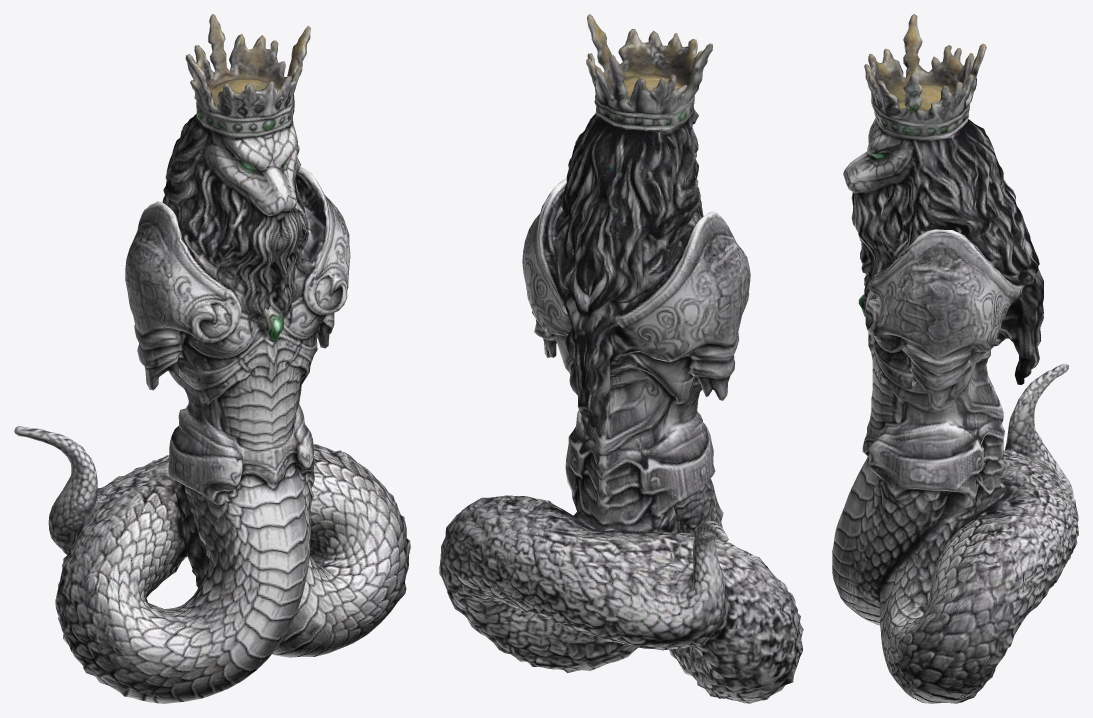
The model's file is Spree_SnakeKing.glb.
3 views of the same model, side by side, from view 1: azimuth 30°, elevation 25°; view 2: azimuth 150°, elevation 25°; view 3: azimuth 270°, elevation 25° (orthographic). The views are drawn at different scales.
Size of the model in its own units: 1.06 by 1.91 by 0.6928.
1 material, 1 textured.
